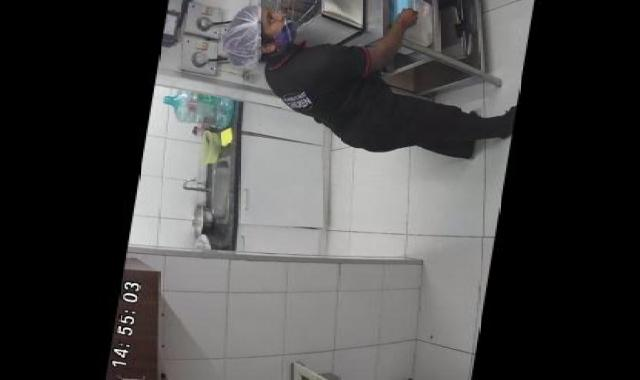hairnet: (207, 2, 298, 70)
